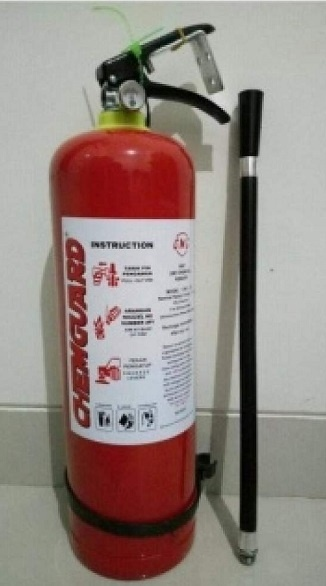fire_extinguisher: (49, 5, 231, 581)
